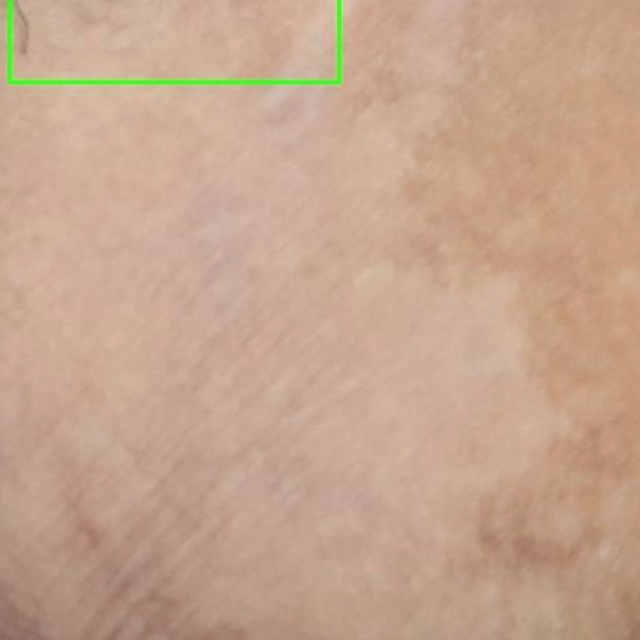Contact Dermatitis: (9, 0, 339, 82)
